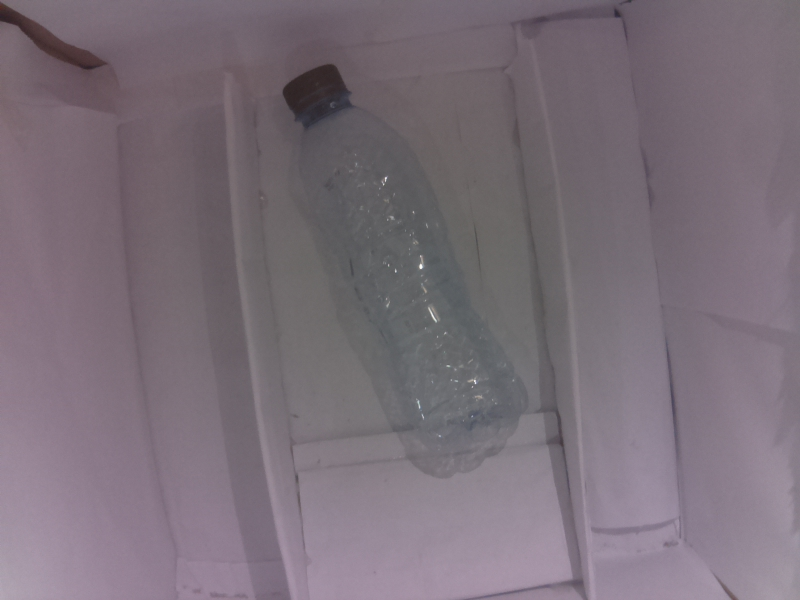botolplastik: (283, 63, 532, 446)
